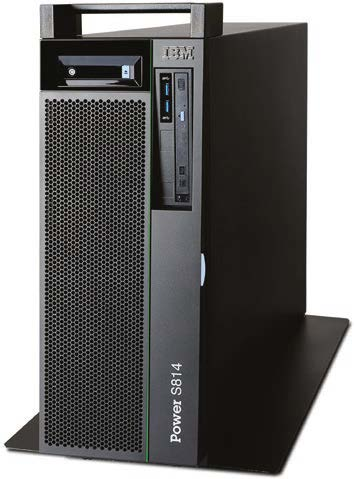ibm-server: (26, 1, 211, 461)
